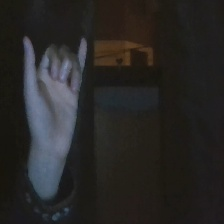Y: (16, 26, 97, 170)
